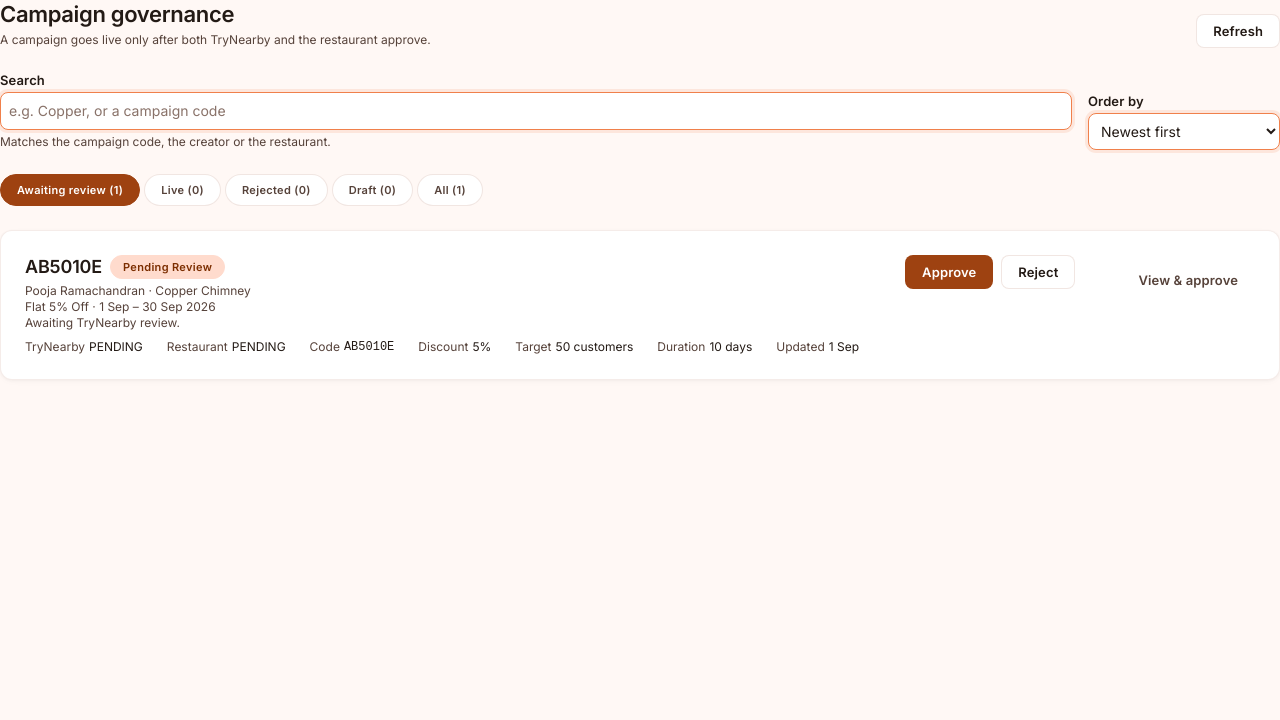
Test case: AdminCampaigns › reports success and refetches after an approval
Click the button "Approve". click: [949, 272]
box: 905,255 -> 993,289
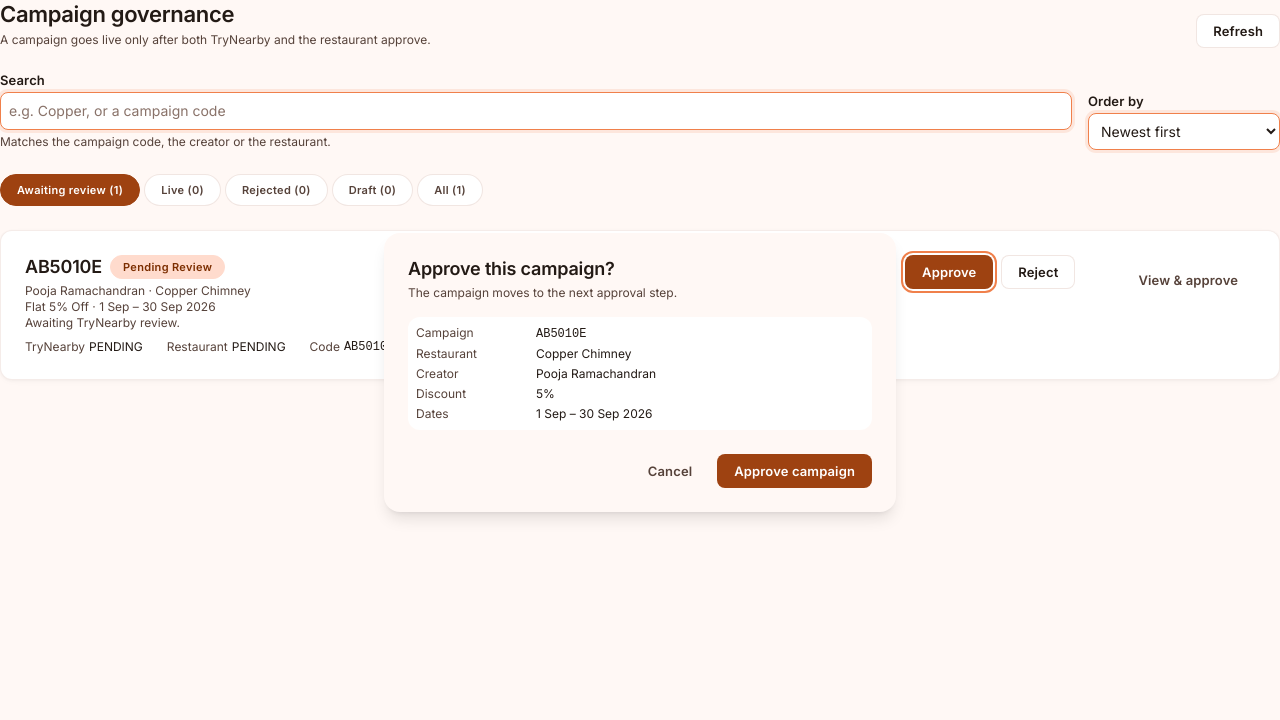
Click the button "Approve campaign". click: [795, 470]
box: 717,454 -> 872,488
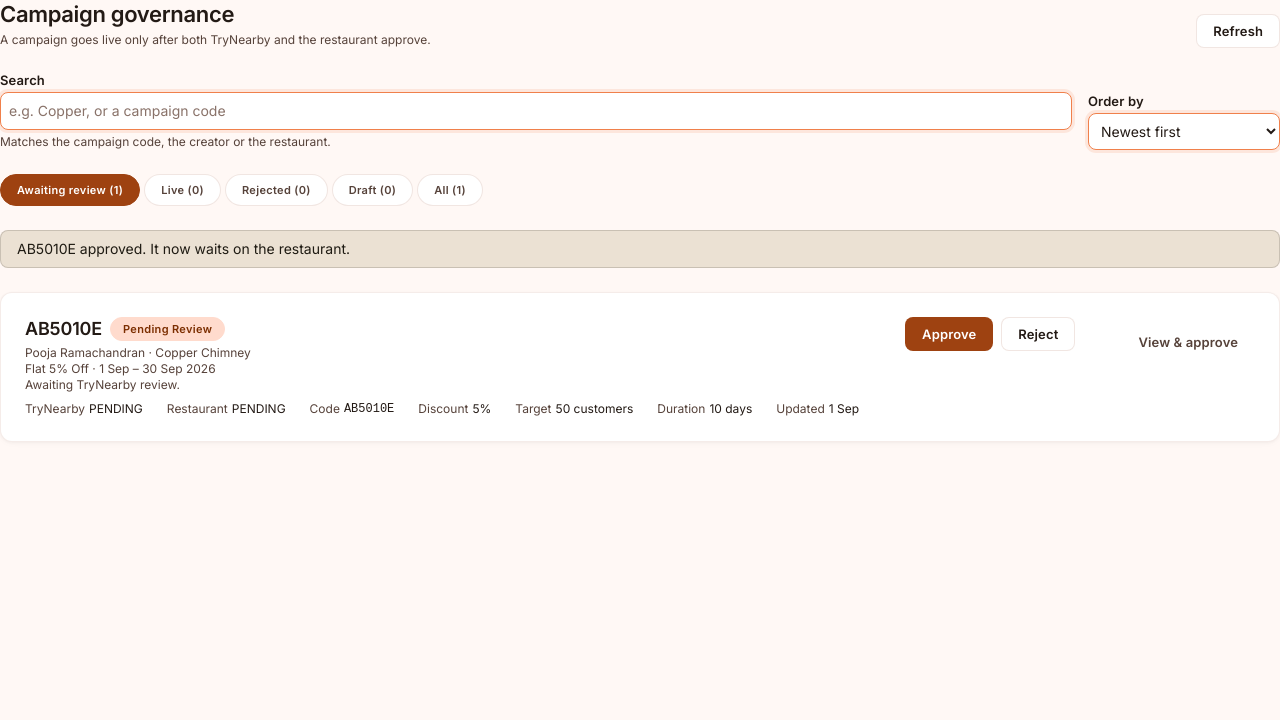
Now the text "AB5010E approved. It now waits on the restaurant." is shown, box 0,230 -> 1279,268
